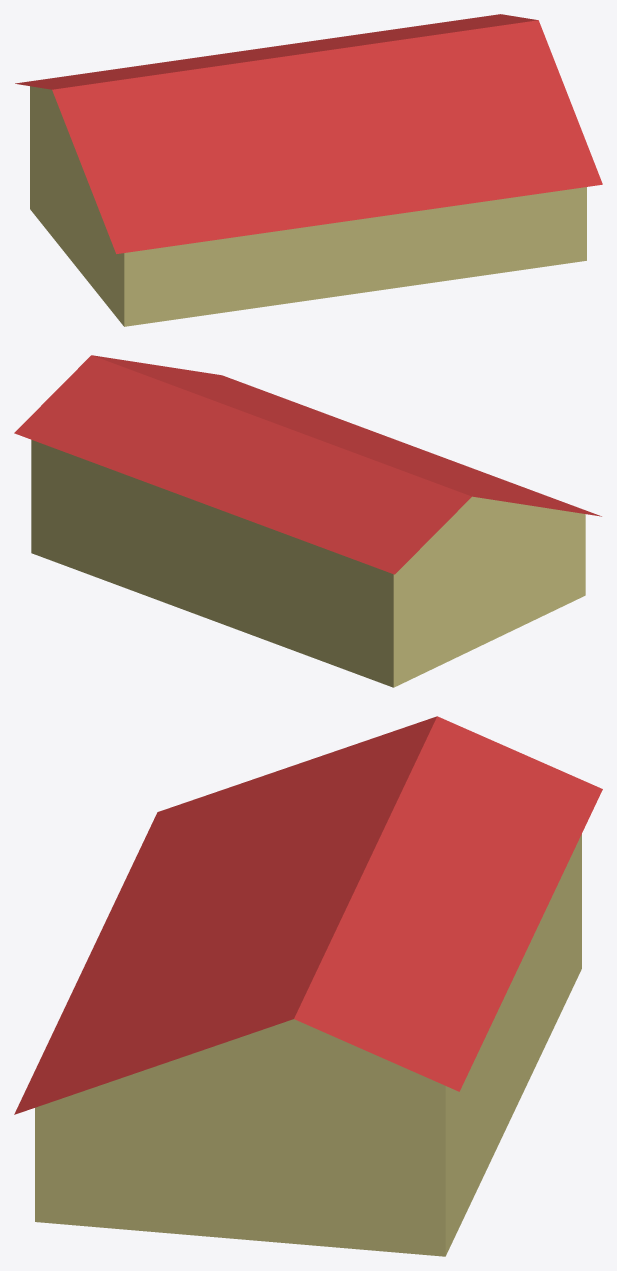
3 views of the same model, one above another, from view 1: azimuth 30°, elevation 25°; view 2: azimuth 150°, elevation 25°; view 3: azimuth 270°, elevation 25° (orthographic). The views are drawn at different scales.
Bounding box in the file's own units: 45.24 × 33.07 × 14.41.
